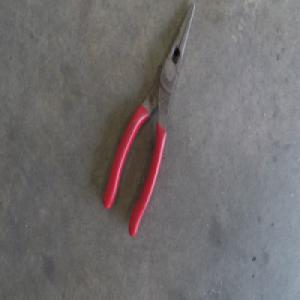Pliers: (105, 8, 195, 237)
